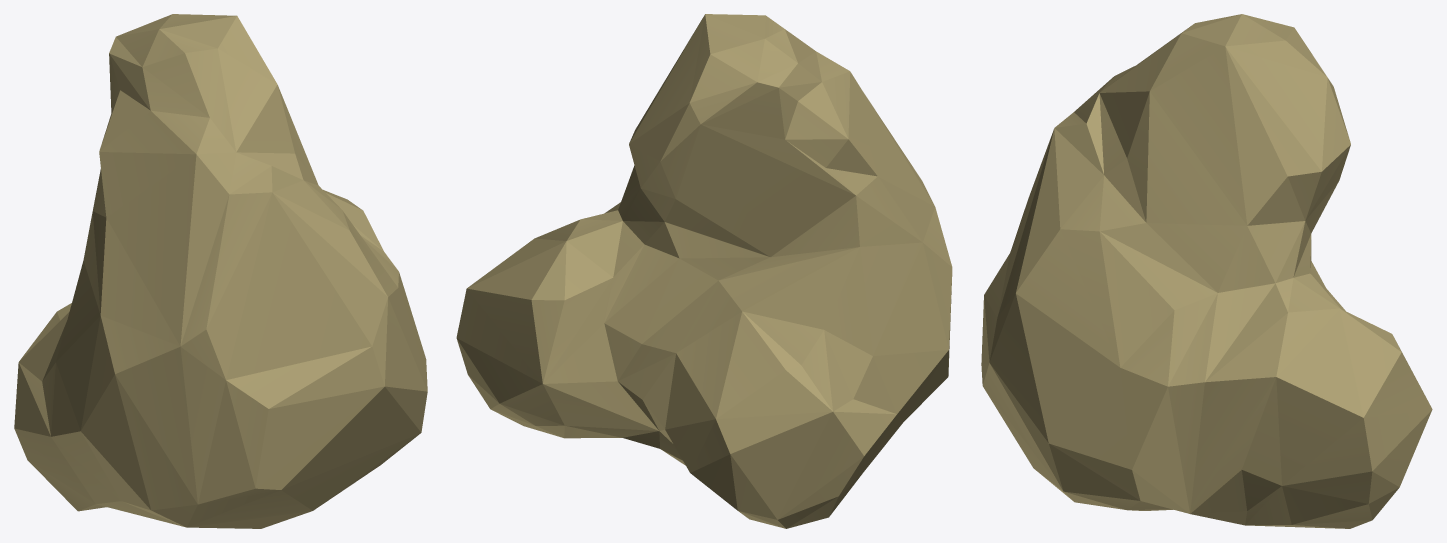
The model's file is SM_rock_80.fbx.
The picture shows the model from 3 angles, left to right: view 1: azimuth 30°, elevation 25°; view 2: azimuth 150°, elevation 25°; view 3: azimuth 270°, elevation 25°; orthographic projection. The views are drawn at different scales.
Parts seen in each view (by area): view 1: rock_80; view 2: rock_80; view 3: rock_80.
Boxes of the visible parts, x1,y1,x2,y2 form: rock_80: (14,14,427,528); rock_80: (456,14,952,528); rock_80: (981,14,1432,528).
Size of the model in its own units: 154 by 179 by 152.
